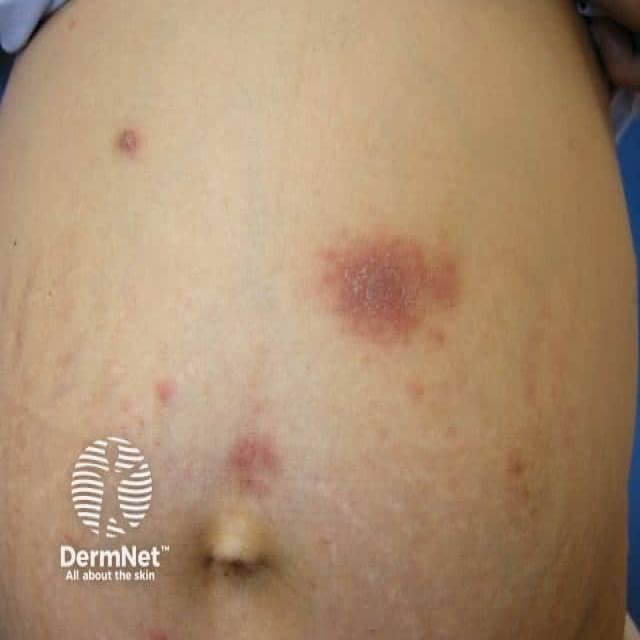Eczema: (290, 228, 481, 360), (106, 119, 146, 159)
